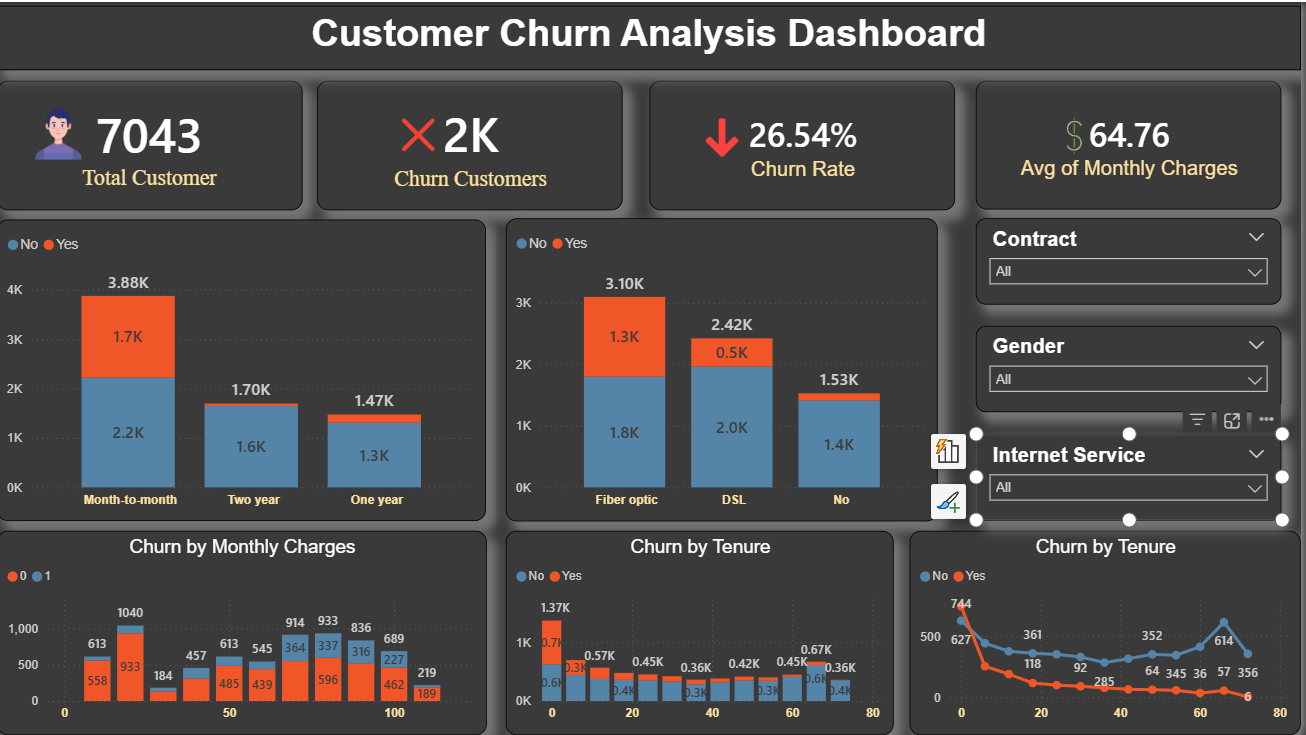

The dashboard page shown, as its layout file describes it:
{"tool":"powerbi","page":{"name":"Page 1","canvas":[1280,720],"ordinal":0},"visuals":[{"type":"card","fields":{"Values":["Count(Telco_Churn.CustomerID)"]},"box":[0,77.9,300.1,127],"z":0},{"type":"cardVisual","fields":{"Data":["Telco_Churn.Churn Customers"]},"box":[314.5,77.9,300.1,127],"z":1000},{"type":"cardVisual","fields":{"Data":["Telco_Churn.Churn Rate"]},"box":[640.6,77.9,300.1,127],"z":2000},{"type":"cardVisual","fields":{"Data":["Avg(Telco_Churn.Monthly Charges)"]},"box":[960.9,77.9,300.1,126],"z":3000},{"type":"textbox","box":[0,3.7,1280,63.4],"z":4000},{"type":"columnChart","title":"Churn By Contract","fields":{"Category":["Telco_Churn.Contract"],"Y":["CountNonNull(Telco_Churn.CustomerID)"],"Series":["Telco_Churn.Churn Label"]},"box":[0,213.3,480,296],"z":5000},{"type":"columnChart","title":"Churn by Internet Service","fields":{"Category":["Telco_Churn.Internet Service"],"Y":["CountNonNull(Telco_Churn.CustomerID)"],"Series":["Telco_Churn.Churn Label"]},"box":[499.2,212.1,424.2,297.2],"z":6000},{"type":"columnChart","title":"Churn by Monthly Charges","fields":{"Y":["CountNonNull(Telco_Churn.CustomerID)"],"Series":["Telco_Churn.Churn Value"],"Category":["Telco_Churn.Monthly Charges (bins)"]},"box":[0,519.4,480.4,200.5],"z":7000},{"type":"columnChart","title":"Churn by Tenure","fields":{"Category":["Telco_Churn.Tenure Months (bins)"],"Y":["CountNonNull(Telco_Churn.CustomerID)"],"Series":["Telco_Churn.Churn Label"]},"box":[499.2,519.4,380.9,200.5],"z":8000},{"type":"lineChart","title":"Churn by Tenure","fields":{"Category":["Telco_Churn.Tenure Months (bins)"],"Y":["CountNonNull(Telco_Churn.CustomerID)"],"Series":["Telco_Churn.Churn Label"]},"box":[896,519.4,383.8,200.5],"z":9000},{"type":"slicer","fields":{"Values":["Telco_Churn.Contract"]},"box":[960.9,212.1,300.1,85.1],"z":10000},{"type":"slicer","fields":{"Values":["Telco_Churn.Gender"]},"box":[960.9,317.4,300.1,85.1],"z":11000},{"type":"slicer","fields":{"Values":["Telco_Churn.Internet Service"]},"box":[960.9,424.2,300.1,85.1],"z":12000}]}

Visuals, with their boxes in screenshot pixels (x1, y1, x2, y2), scaled from the page's 1280x720 canvas onto the 1306x735 screenshot:
card - Count(Telco_Churn.CustomerID): [left=0, top=80, right=306, bottom=209]
cardVisual - Telco_Churn.Churn Customers: [left=321, top=80, right=627, bottom=209]
cardVisual - Telco_Churn.Churn Rate: [left=654, top=80, right=960, bottom=209]
cardVisual - Avg(Telco_Churn.Monthly Charges): [left=980, top=80, right=1287, bottom=208]
textbox: [left=0, top=4, right=1305, bottom=68]
"Churn By Contract" columnChart: [left=0, top=218, right=490, bottom=520]
"Churn by Internet Service" columnChart: [left=509, top=217, right=942, bottom=520]
"Churn by Monthly Charges" columnChart: [left=0, top=530, right=490, bottom=734]
"Churn by Tenure" columnChart: [left=509, top=530, right=898, bottom=734]
"Churn by Tenure" lineChart: [left=914, top=530, right=1305, bottom=734]
slicer - Telco_Churn.Contract: [left=980, top=217, right=1287, bottom=303]
slicer - Telco_Churn.Gender: [left=980, top=324, right=1287, bottom=411]
slicer - Telco_Churn.Internet Service: [left=980, top=433, right=1287, bottom=520]
